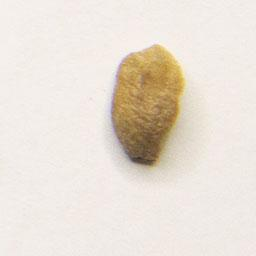defect: (107, 39, 188, 169)
